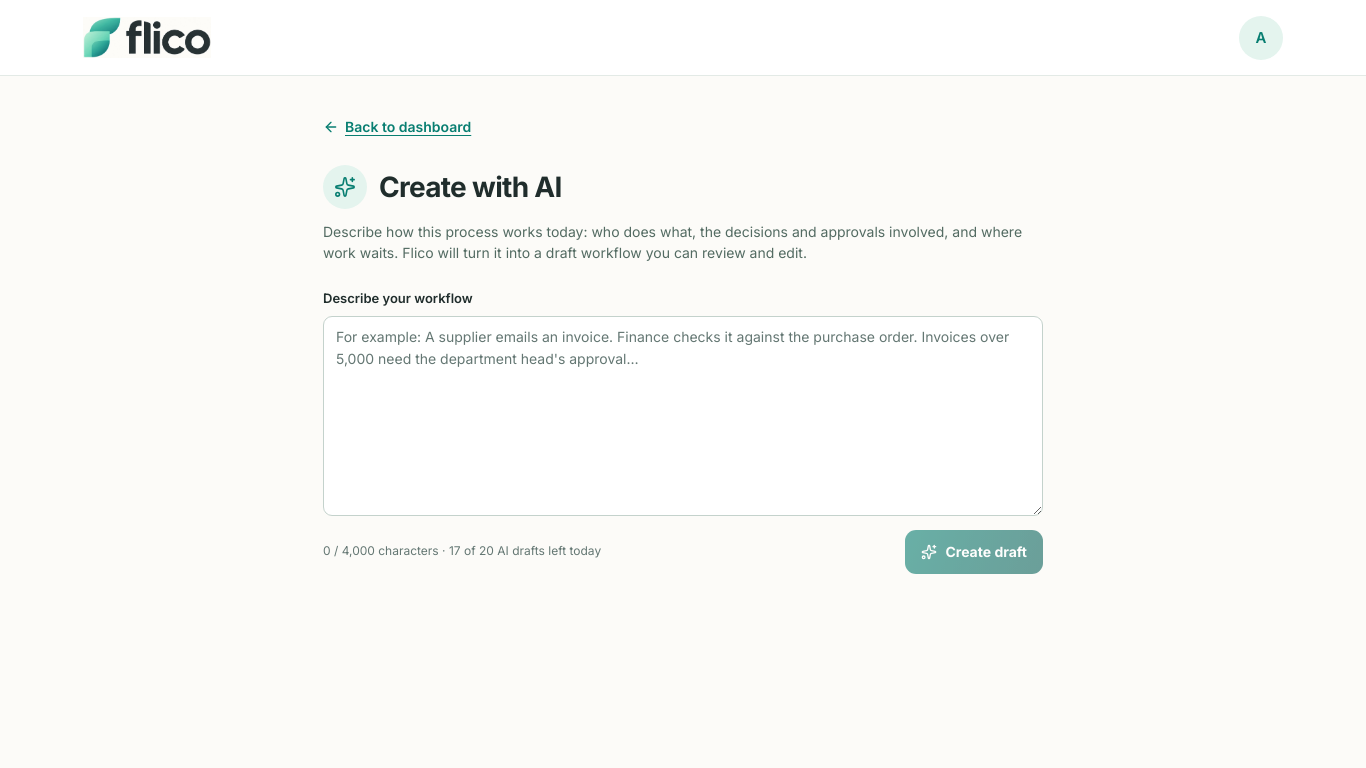
create with AI route › keeps the description and offers to try again when drafting fails
The width and height of the screenshot is (1366, 768).
Expected: the text "0 / 4,000 characters · 17 of 20 AI drafts left today" is shown, [323,542,601,561]
Type "Orders arrive" into the text box labelled "Describe your workflow" at (683, 416), box [323,316,1043,516]
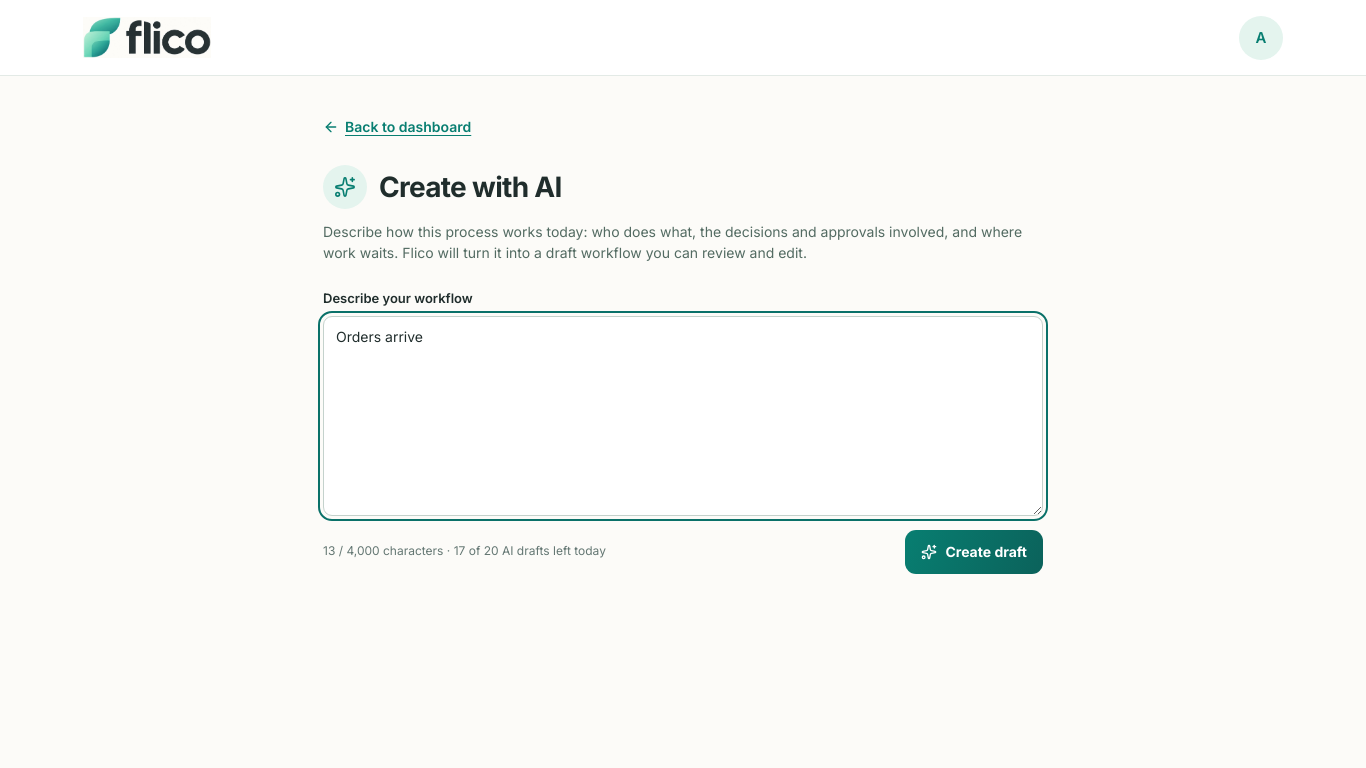
Click the button "Create draft" at (974, 552), box [905,530,1043,574]
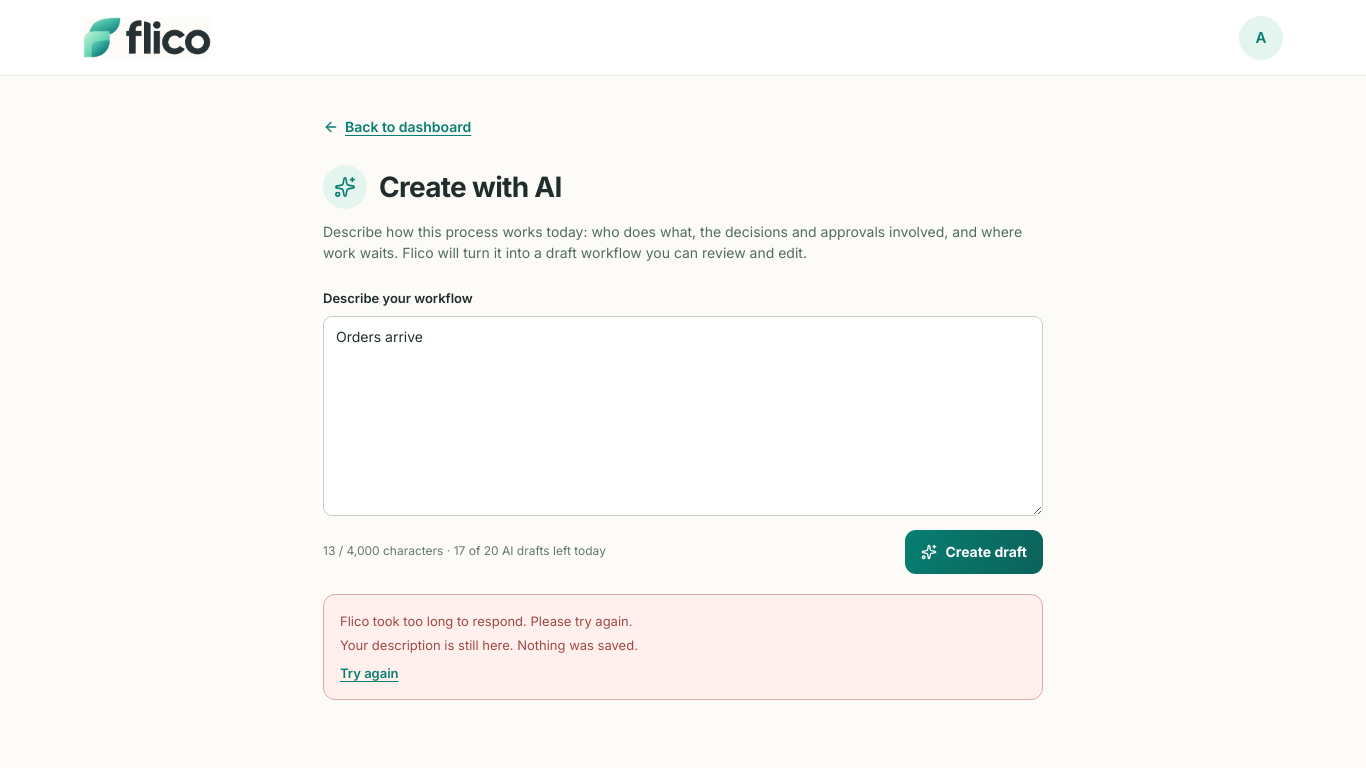
Result: the text "Flico took too long to respond. Please try again." is shown at [340,613,632,629]
Result: the button "Try again" is shown at [340,663,399,683]
